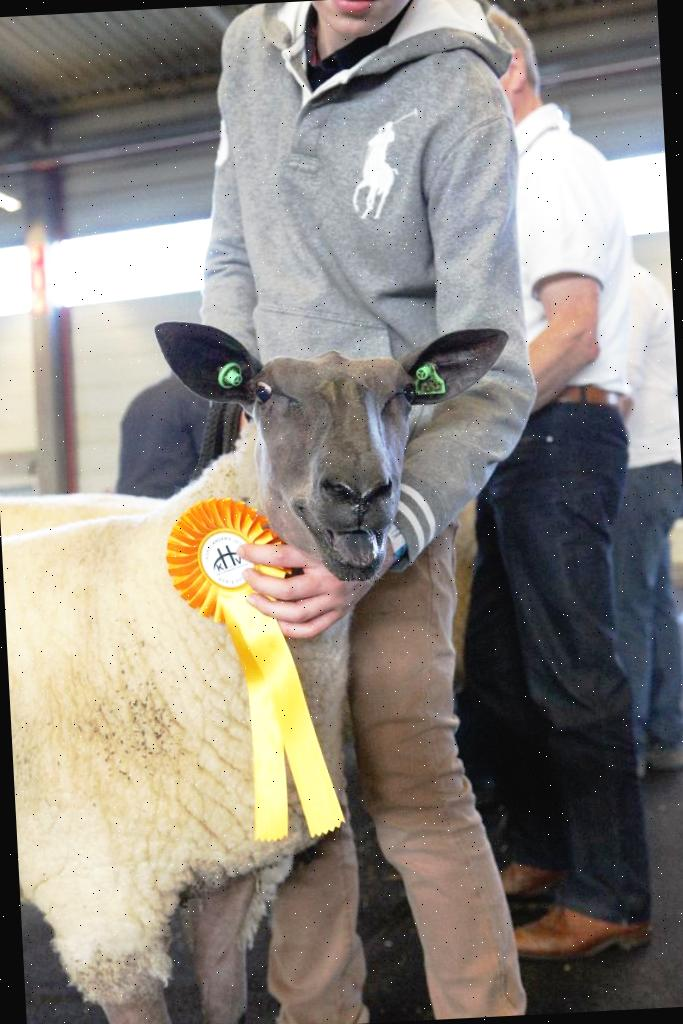Sheep: (0, 298, 551, 1024)
